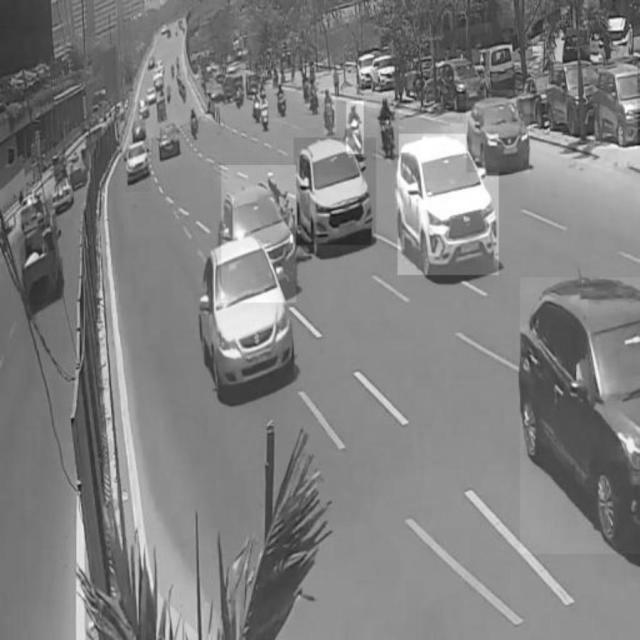accident: (222, 166, 296, 303)
vehicle: (520, 277, 640, 553), (398, 134, 499, 275), (200, 245, 292, 393), (294, 138, 376, 246), (466, 90, 530, 173), (591, 65, 638, 148), (21, 207, 59, 305), (548, 68, 595, 135), (124, 139, 151, 191), (378, 98, 398, 160), (347, 102, 364, 154), (324, 87, 336, 135)
